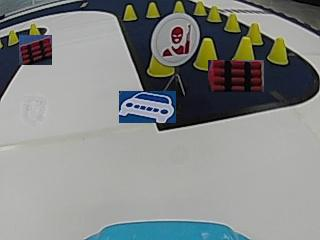evil: (150, 14, 199, 66)
